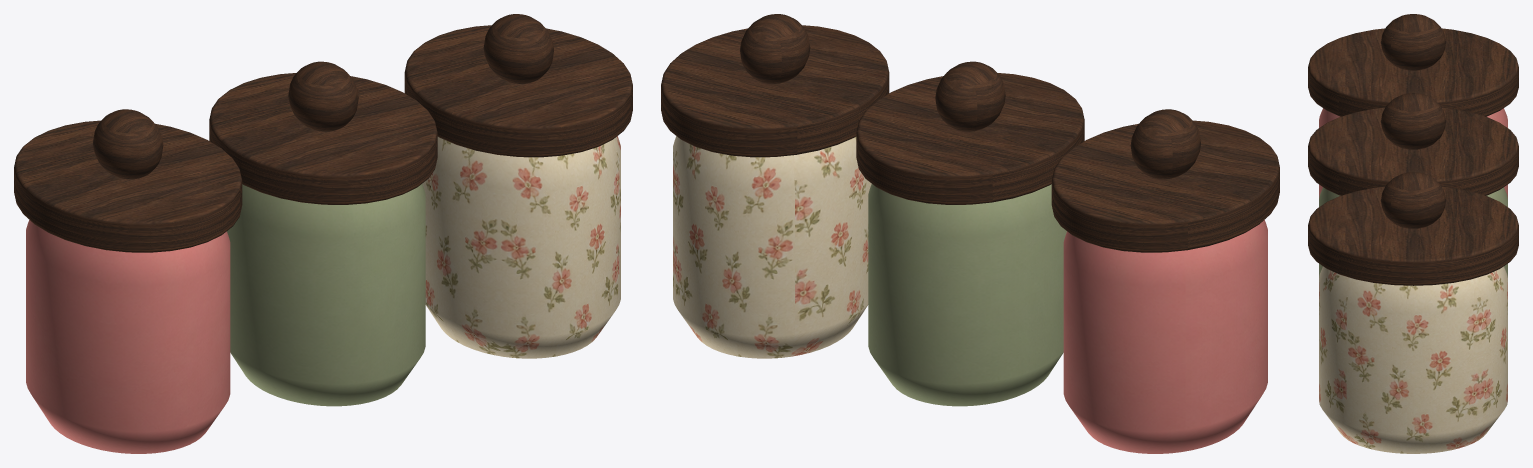
File: SM_InteriorAdditions_CanisterSet.fbx
3 views of the same model, side by side, from view 1: azimuth 30°, elevation 25°; view 2: azimuth 150°, elevation 25°; view 3: azimuth 270°, elevation 25° (orthographic). The views are drawn at different scales.
Visible parts, largest first — view 1: SM_InteriorAdditions_CanisterSet; view 2: SM_InteriorAdditions_CanisterSet; view 3: SM_InteriorAdditions_CanisterSet.
Part boxes in pixels (left/top/right/bottom): SM_InteriorAdditions_CanisterSet: left=14, top=14, right=632, bottom=453; SM_InteriorAdditions_CanisterSet: left=661, top=14, right=1279, bottom=453; SM_InteriorAdditions_CanisterSet: left=1308, top=14, right=1518, bottom=453.
Size of what is drawn, in the model's own units: 58 by 22 by 29.
